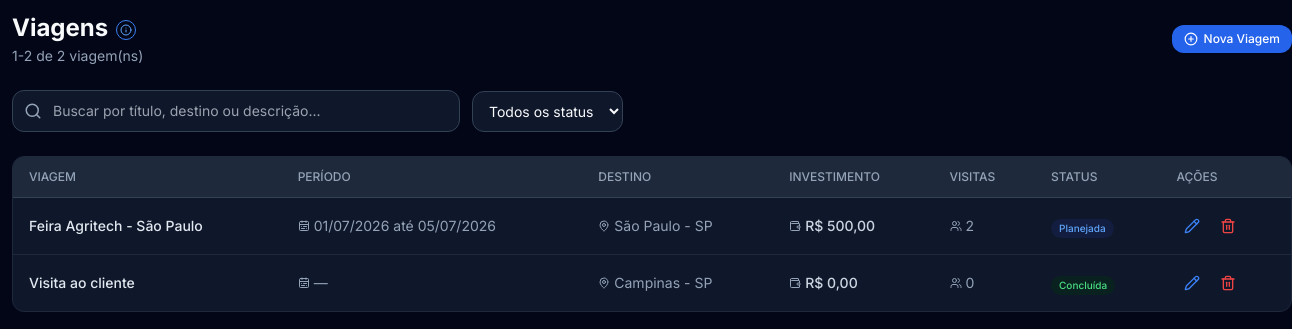
Test case: ViagensPage › busca com debounce e filtra
Expected: the text "Feira Agritech - São Paulo" is shown, [13,198,282,254]
Type "Feira" into the field with placeholder "Buscar por título, destino ou descrição..." at (236, 111), box [12,90,460,132]
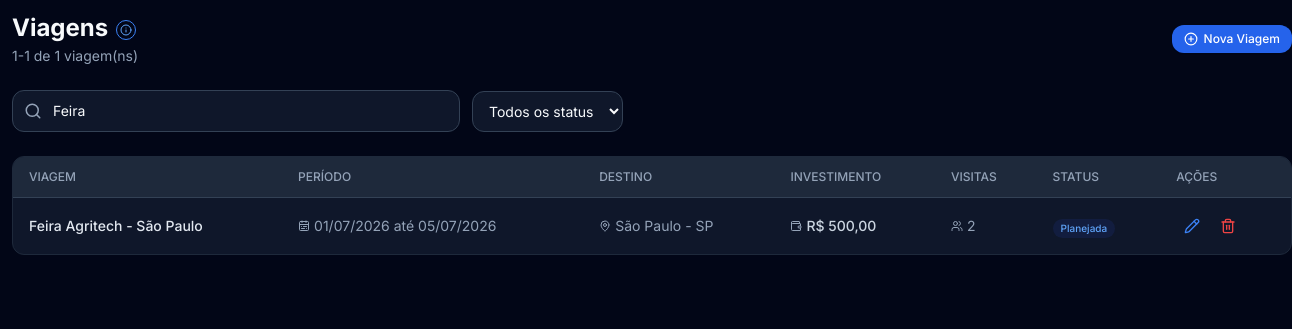
Expected: the text "Feira Agritech - São Paulo" is shown, [13,198,282,254]
Result: the text "Visita ao cliente" is gone
